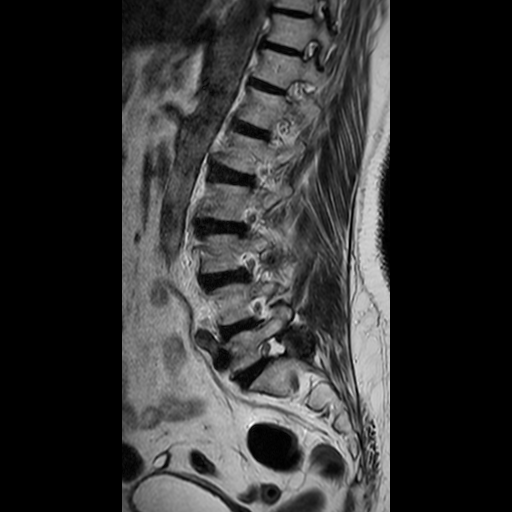LFS0: (250, 330, 292, 373), (231, 243, 269, 288), (240, 289, 278, 333)
